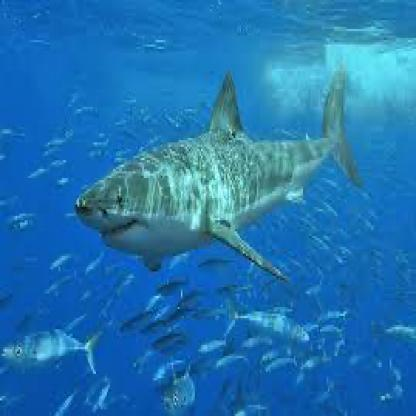shark: (68, 64, 365, 284)
